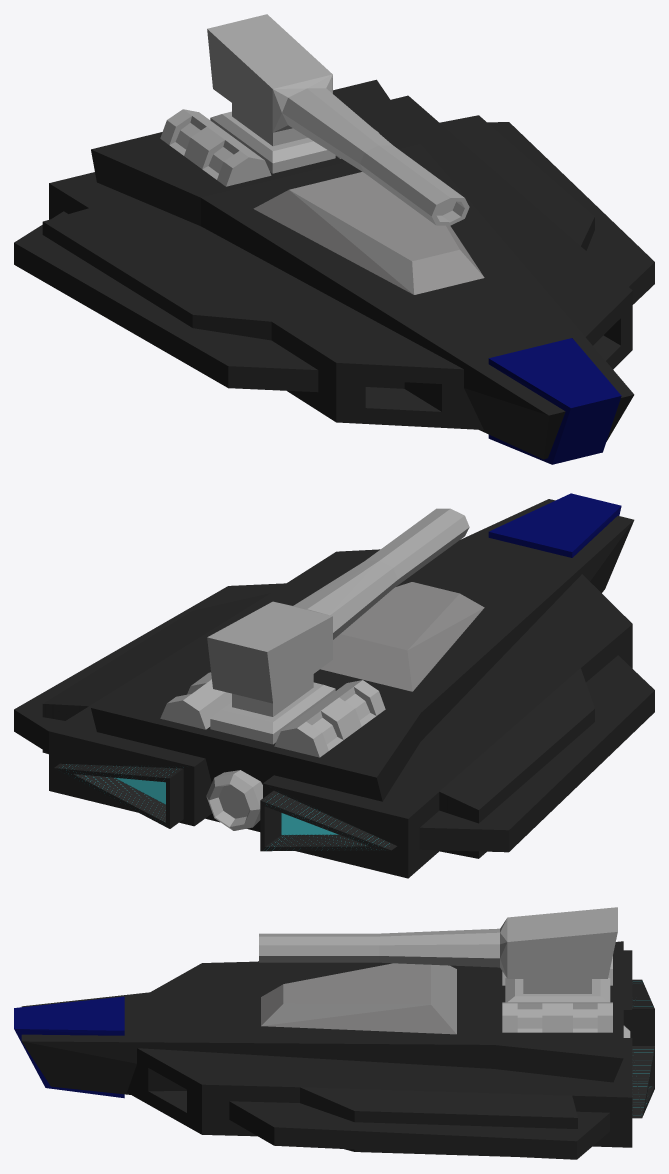
File: PlayerShip.fbx
3 renders of one model, top to bottom at view 1: azimuth 30°, elevation 25°; view 2: azimuth 150°, elevation 25°; view 3: azimuth 270°, elevation 25°, orthographic. The views are drawn at different scales.
Parts seen in each view (by area): view 1: ship_body, Cannon, power_cylinder_L; view 2: ship_body, Cannon, power_cylinder_L, power_cylinder_R; view 3: ship_body, Cannon, power_cylinder_R.
Part boxes in pixels (<box>): ship_body: <box>14,79,654,464</box>; Cannon: <box>207,14,469,225</box>; power_cylinder_L: <box>160,109,271,186</box>; ship_body: <box>14,493,654,878</box>; Cannon: <box>207,508,469,744</box>; power_cylinder_L: <box>274,680,385,757</box>; power_cylinder_R: <box>160,672,231,729</box>; ship_body: <box>14,941,654,1159</box>; Cannon: <box>259,907,617,1002</box>; power_cylinder_R: <box>502,1002,612,1032</box>.
Size of the model in its own units: 4.34 by 1.68 by 5.79.
